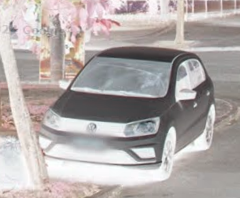car: (39, 47, 217, 182)
